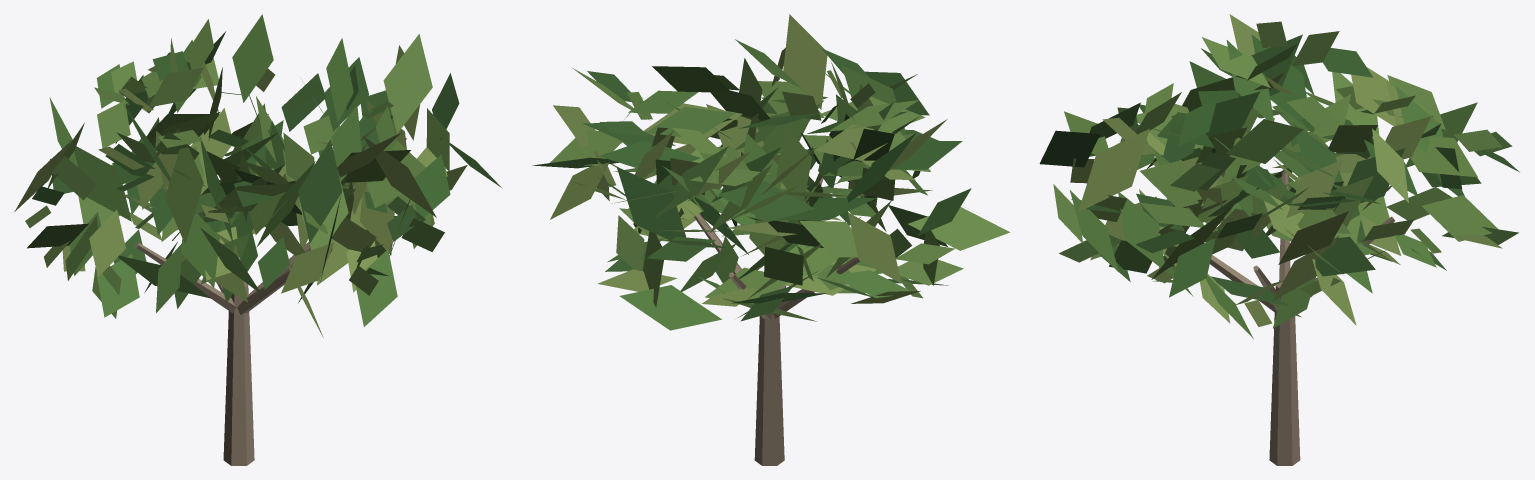
The model's file is tree_forest_a.gltf.
3 views of the same model, side by side, from view 1: azimuth 30°, elevation 25°; view 2: azimuth 150°, elevation 25°; view 3: azimuth 270°, elevation 25° (orthographic). The views are drawn at different scales.
Parts seen in each view (by area): view 1: ForestA; view 2: ForestA; view 3: ForestA.
Boxes of the visible parts, bbox=[...] form: ForestA: bbox=[14, 14, 502, 465]; ForestA: bbox=[532, 14, 1010, 465]; ForestA: bbox=[1039, 14, 1519, 465].
Size of the model in its own units: 9.97 by 9.88 by 9.98.
